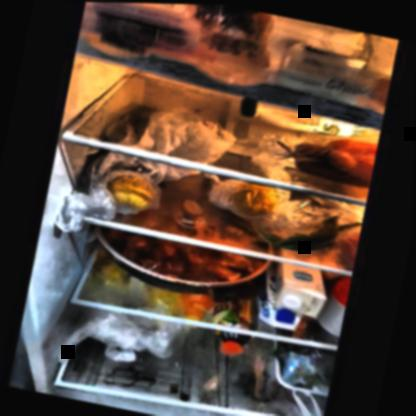broccoli: (271, 338, 338, 396)
carrot: (285, 126, 377, 184)
green_chillies: (257, 206, 348, 257)
lemon: (103, 168, 159, 212), (233, 178, 282, 220)
milk: (236, 98, 368, 141), (259, 261, 327, 333)
